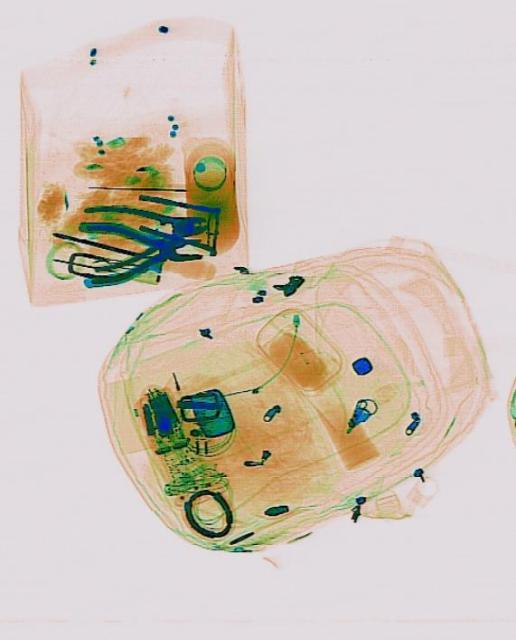Pliers: (81, 193, 208, 271), (76, 216, 199, 286)
